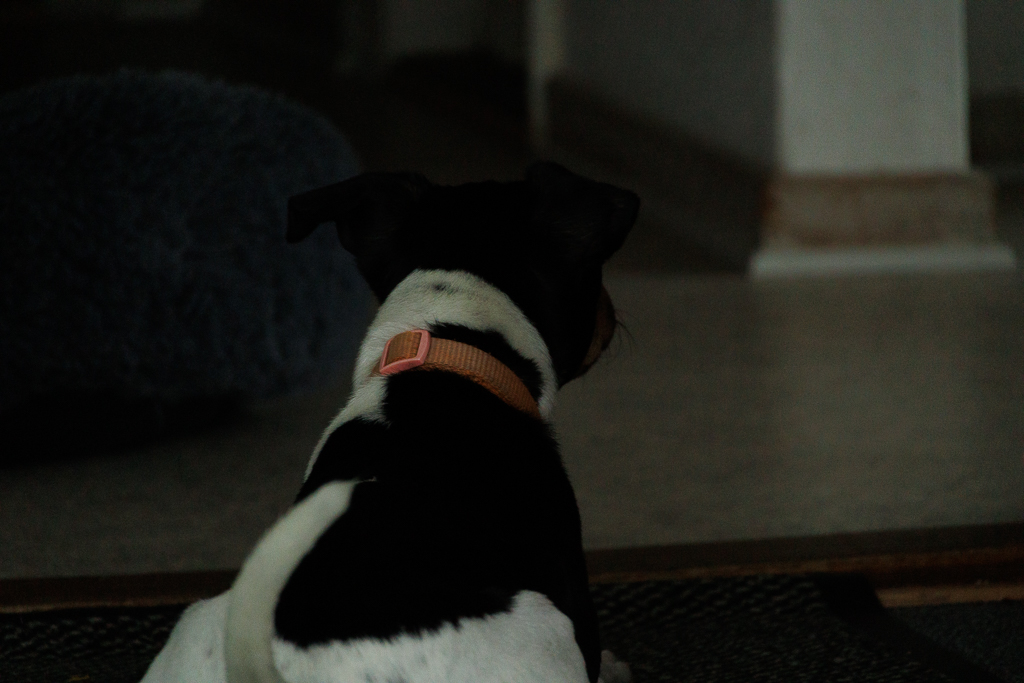Dog: (117, 152, 671, 683)
